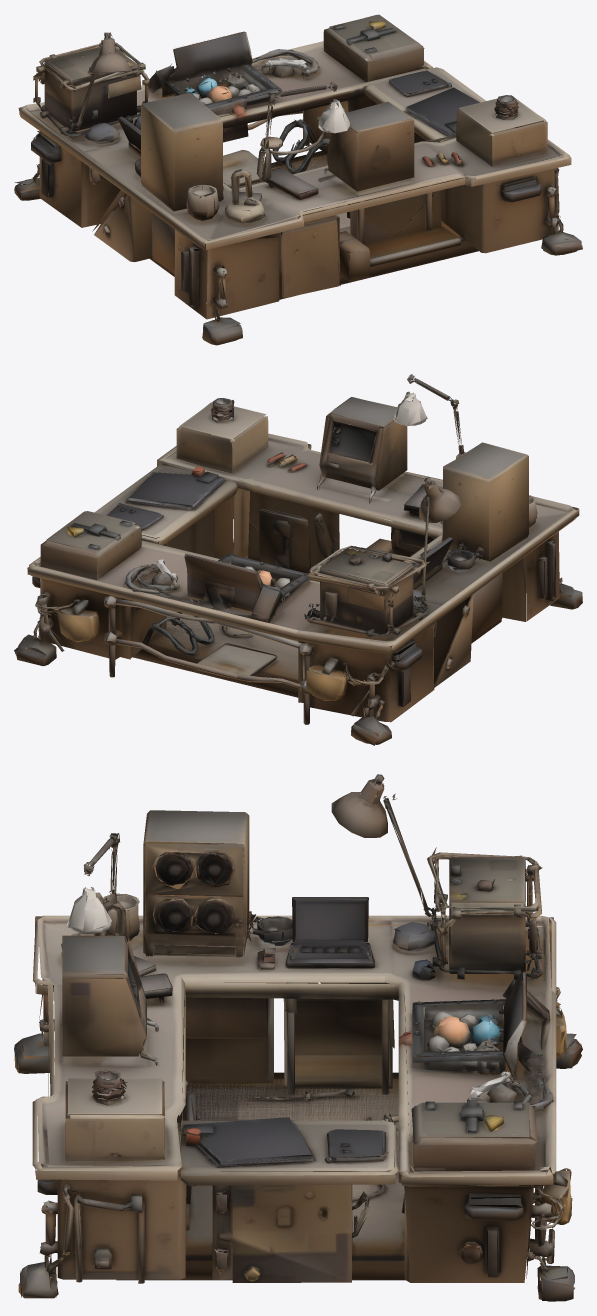
File: ch8_syndicate_field_lab_LOD1.glb
The picture shows the model from 3 angles, top to bottom: view 1: azimuth 30°, elevation 25°; view 2: azimuth 150°, elevation 25°; view 3: azimuth 270°, elevation 25°; orthographic projection. The views are drawn at different scales.
Parts seen in each view (by area): view 1: tripo_node_7368148b-558b-49bb-bc4a-a773b8729387; view 2: tripo_node_7368148b-558b-49bb-bc4a-a773b8729387; view 3: tripo_node_7368148b-558b-49bb-bc4a-a773b8729387.
Boxes of the visible parts, x1,y1,x2,y2 form: tripo_node_7368148b-558b-49bb-bc4a-a773b8729387: (14,14,582,345); tripo_node_7368148b-558b-49bb-bc4a-a773b8729387: (14,374,582,745); tripo_node_7368148b-558b-49bb-bc4a-a773b8729387: (14,774,582,1301).
Bounding box in the file's own units: 0.9984 × 0.5527 × 0.9447.
Materials: 1 (1 with a texture image).
